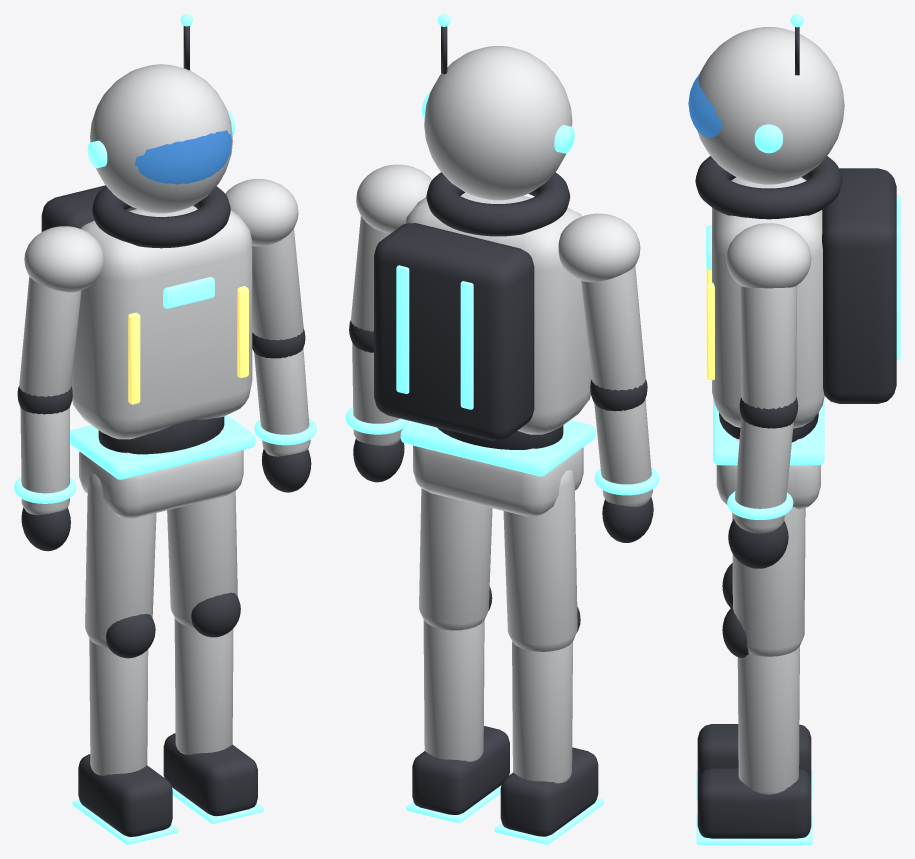
Rendered from explorer.glb.
The picture shows the model from 3 angles, left to right: view 1: azimuth 30°, elevation 25°; view 2: azimuth 150°, elevation 25°; view 3: azimuth 270°, elevation 25°; orthographic projection. The views are drawn at different scales.
Visible parts, largest first — view 1: Body, LegR, LegL, Head, ArmR, ArmL; view 2: Body, LegR, LegL, Head, ArmR, ArmL; view 3: Body, LegL, Head, ArmL, LegR.
Part boxes in pixels (box(x1,y1,x2,y2)): Body: box(24, 179, 298, 518); LegR: box(72, 473, 178, 844); LegL: box(163, 491, 263, 823); Head: box(87, 14, 235, 213); ArmR: box(14, 276, 81, 551); ArmL: box(252, 229, 316, 492); Body: box(356, 164, 640, 516); LegR: box(494, 470, 604, 844); LegL: box(406, 488, 509, 823); Head: box(422, 14, 574, 200); ArmR: box(581, 266, 659, 542); ArmL: box(345, 216, 409, 482); Body: box(695, 156, 900, 509); LegL: box(696, 506, 812, 844); Head: box(688, 14, 844, 184); ArmL: box(727, 285, 798, 568); LegR: box(696, 563, 812, 800).
Size of the model in its own units: 0.76 by 1.9 by 0.4477.
